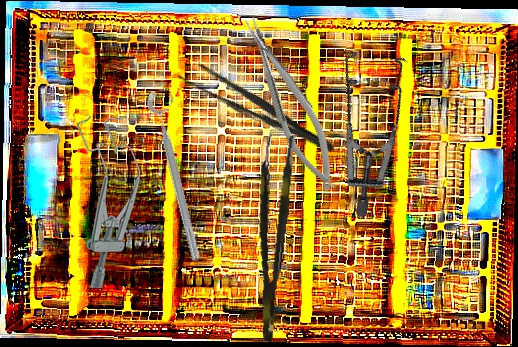Dressing Forceps: (174, 54, 342, 163)
Fixation Ring: (144, 86, 215, 264)
Needle Holder: (236, 8, 347, 200)
Speculum: (269, 26, 457, 220), (77, 116, 140, 288)
Tissue Forceps: (243, 132, 297, 343)
